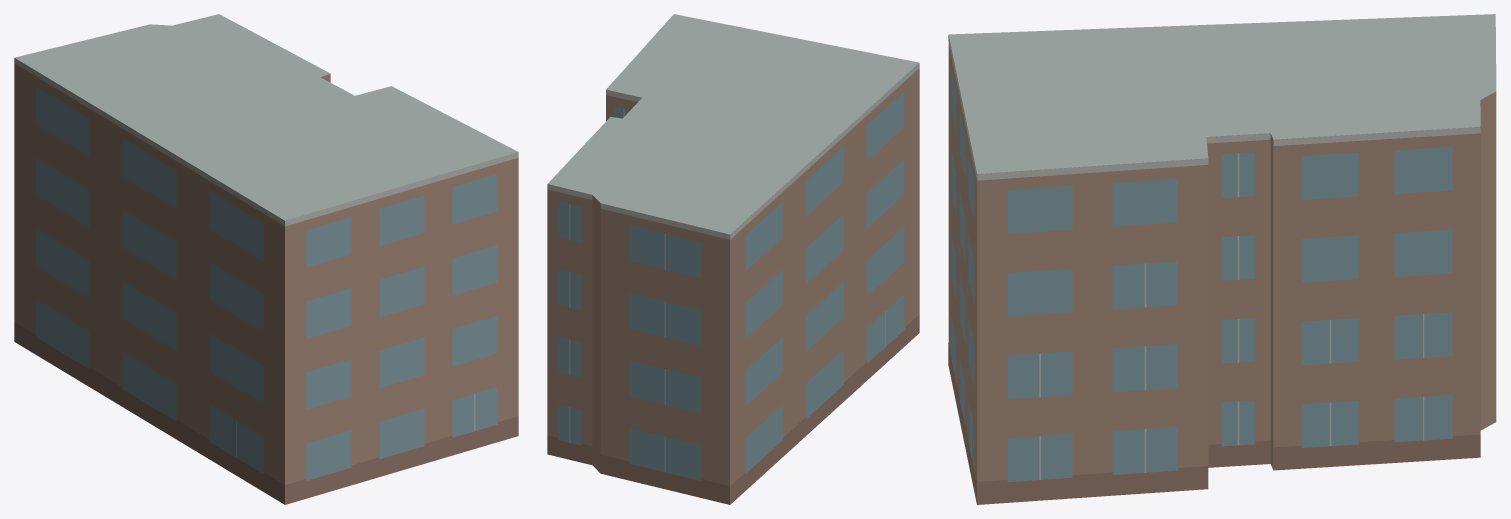
Rendered from survey-upis-32520495.glb.
The picture shows the model from 3 angles, left to right: view 1: azimuth 30°, elevation 25°; view 2: azimuth 150°, elevation 25°; view 3: azimuth 270°, elevation 25°; orthographic projection. The views are drawn at different scales.
Visible parts, largest first — view 1: survey-upis-32520495.tmp; view 2: survey-upis-32520495.tmp; view 3: survey-upis-32520495.tmp.
Part boxes in pixels (bbox=[...]): survey-upis-32520495.tmp: bbox=[14, 14, 518, 504]; survey-upis-32520495.tmp: bbox=[547, 14, 919, 504]; survey-upis-32520495.tmp: bbox=[948, 14, 1496, 504].
Bounding box in the file's own units: 12.72 × 12.25 × 18.4.
